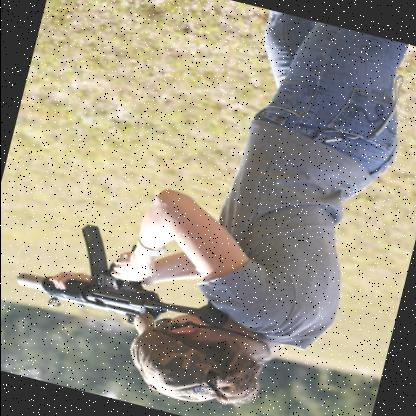rifle: (5, 202, 242, 352)
